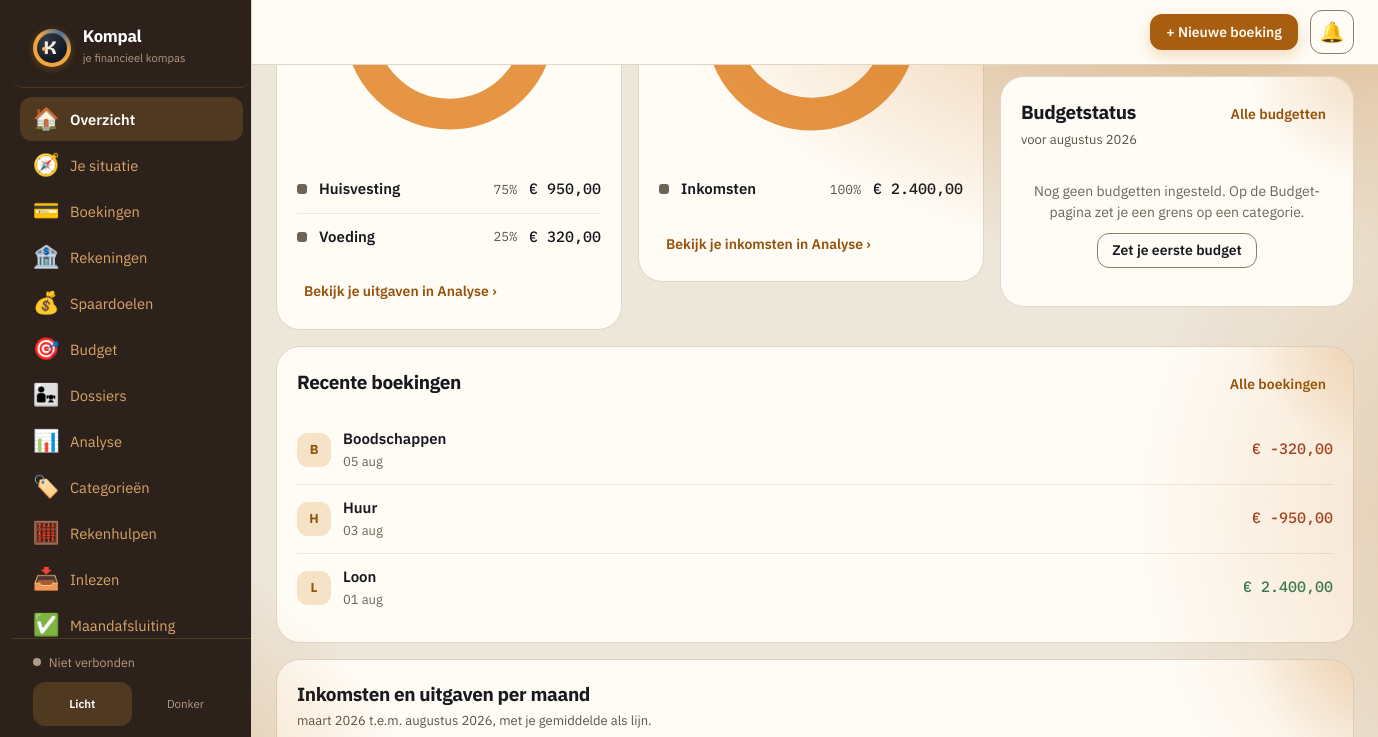
Test: App op een breed scherm › springt vanuit de recente transacties naar de transactiepagina
This screenshot has width=1378, height=737.
(page scrolled)
Expected: the heading "Recente boekingen" is shown, [297,368,461,396]
Step 1. Click the button "Alle boekingen" → (1278, 384), box [1223,367,1333,402]
(page scrolled)
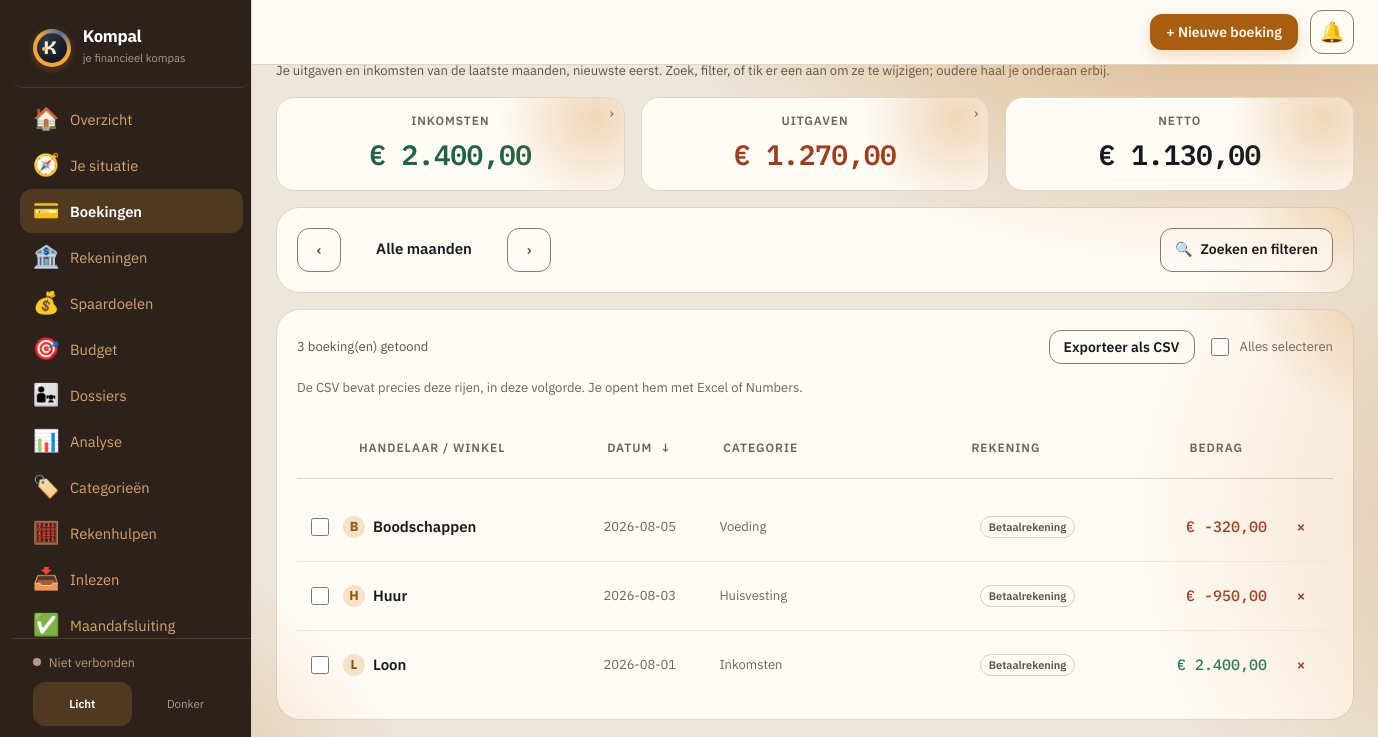
Expected: the button "🔍 Zoeken en filteren" is shown
Step 2. Click the button "🔍 Zoeken en filteren" → (1246, 250), box [1160,228,1333,272]
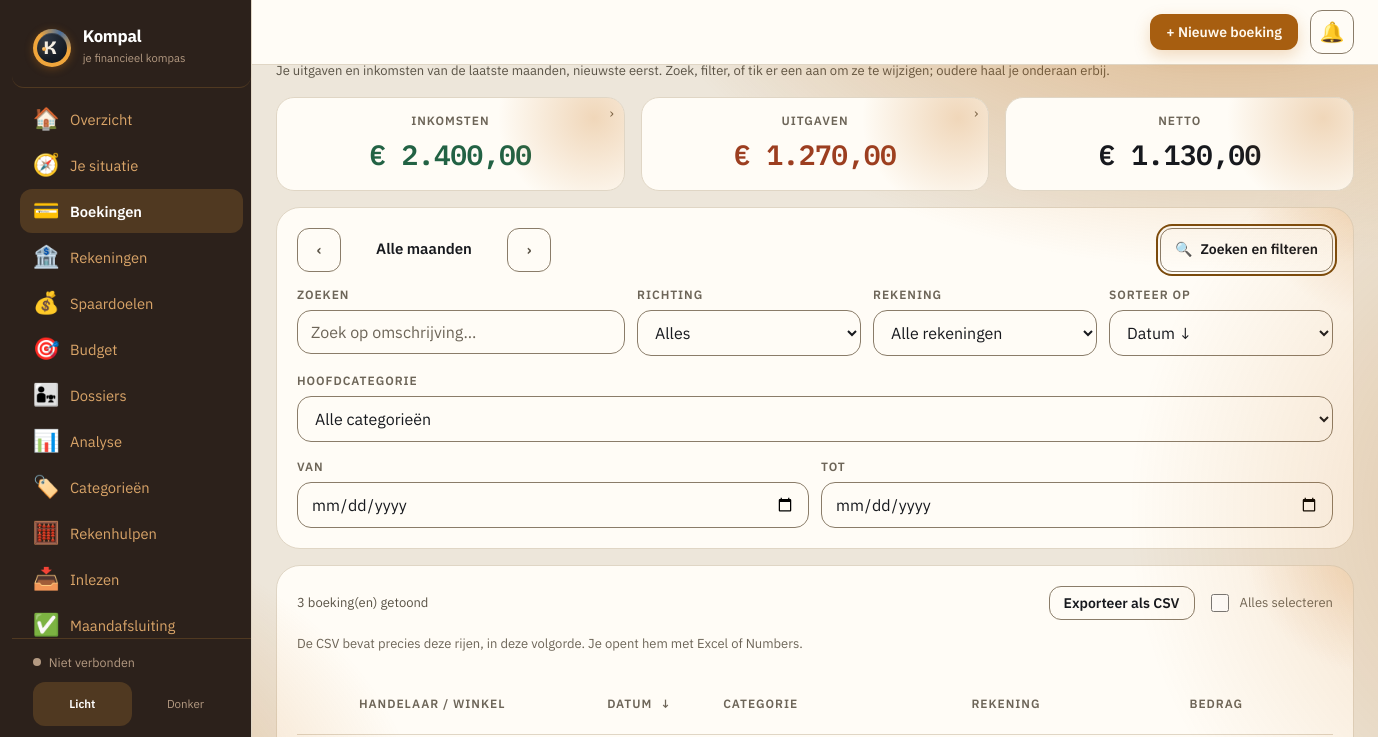
Expected: the search field named "Zoek in je boekingen" is shown, [297,310,625,354]
